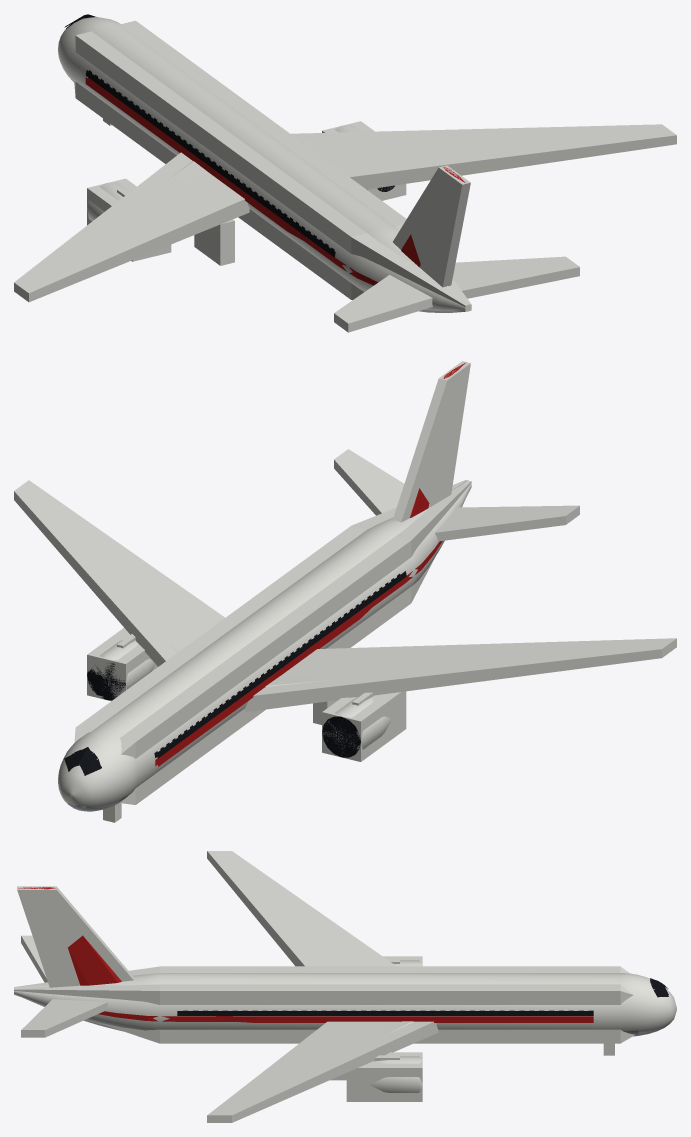
Rendered from bne_ac_wide_red.dae.
The picture shows the model from 3 angles, top to bottom: view 1: azimuth 30°, elevation 25°; view 2: azimuth 150°, elevation 25°; view 3: azimuth 270°, elevation 25°; orthographic projection. The views are drawn at different scales.
Visible parts, largest first — view 1: Colmesh_bne_ac_wide_red-1, bne_ac_wide_red160, bne_ac_wide_red16; view 2: Colmesh_bne_ac_wide_red-1, bne_ac_wide_red160, bne_ac_wide_red16; view 3: Colmesh_bne_ac_wide_red-1, bne_ac_wide_red160, bne_ac_wide_red16.
Part boxes in pixels (<box>): Colmesh_bne_ac_wide_red-1: <box>14,20,676,332</box>; bne_ac_wide_red160: <box>14,16,471,327</box>; bne_ac_wide_red16: <box>64,14,469,310</box>; Colmesh_bne_ac_wide_red-1: <box>14,361,676,822</box>; bne_ac_wide_red160: <box>58,362,674,811</box>; bne_ac_wide_red16: <box>64,481,466,795</box>; Colmesh_bne_ac_wide_red-1: <box>14,851,634,1122</box>; bne_ac_wide_red160: <box>14,887,676,1120</box>; bne_ac_wide_red16: <box>16,977,668,1034</box>.
Bounding box in the file's own units: 60.1 × 63.7 × 17.5.
